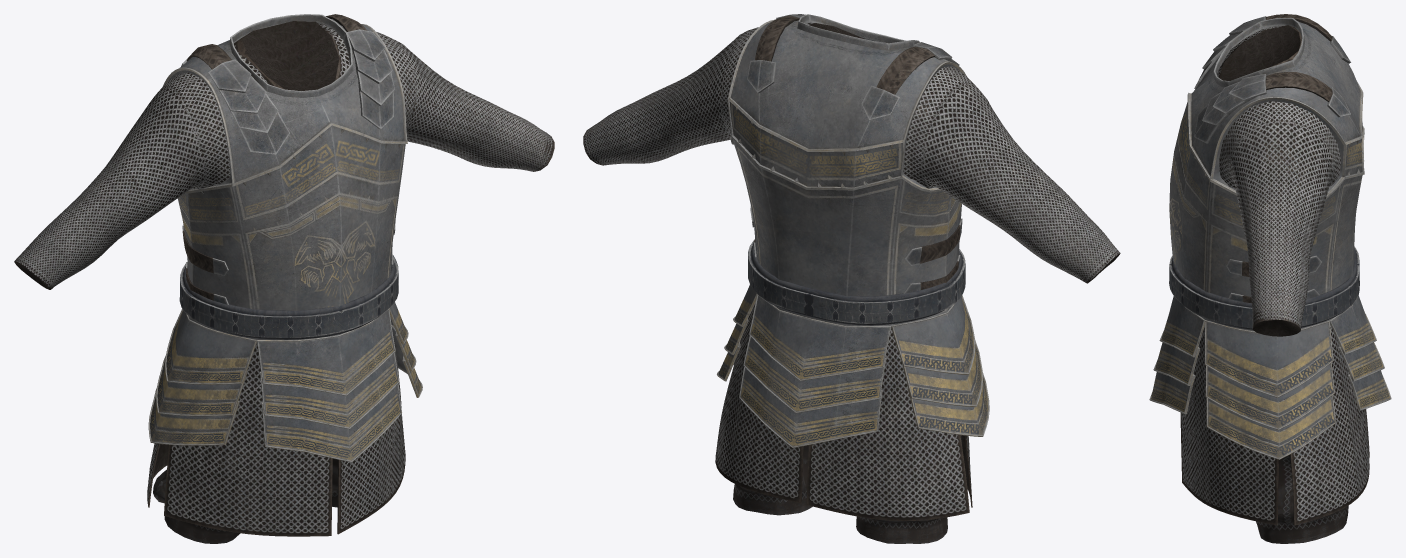
Rendered from sk_dwarf_erebor_chest_plate_elite_c2.fbx.
The picture shows the model from 3 angles, left to right: view 1: azimuth 30°, elevation 25°; view 2: azimuth 150°, elevation 25°; view 3: azimuth 270°, elevation 25°; orthographic projection. The views are drawn at different scales.
Parts seen in each view (by area): view 1: sk_dwarf_erebor_chest_plate_elite_c2.3, sk_dwarf_erebor_chest_plate_elite_c2.1, sk_dwarf_erebor_chest_plate_elite_c2.2, sk_dwarf_erebor_chest_plate_elite_c2.0; view 2: sk_dwarf_erebor_chest_plate_elite_c2.3, sk_dwarf_erebor_chest_plate_elite_c2.1, sk_dwarf_erebor_chest_plate_elite_c2.2, sk_dwarf_erebor_chest_plate_elite_c2.0; view 3: sk_dwarf_erebor_chest_plate_elite_c2.3, sk_dwarf_erebor_chest_plate_elite_c2.1, sk_dwarf_erebor_chest_plate_elite_c2.2, sk_dwarf_erebor_chest_plate_elite_c2.0.
Boxes of the visible parts, x1,y1,x2,y2 form: sk_dwarf_erebor_chest_plate_elite_c2.3: [148, 14, 422, 462]; sk_dwarf_erebor_chest_plate_elite_c2.1: [14, 21, 554, 536]; sk_dwarf_erebor_chest_plate_elite_c2.2: [181, 14, 395, 304]; sk_dwarf_erebor_chest_plate_elite_c2.0: [153, 458, 337, 543]; sk_dwarf_erebor_chest_plate_elite_c2.3: [717, 14, 989, 447]; sk_dwarf_erebor_chest_plate_elite_c2.1: [583, 23, 1120, 520]; sk_dwarf_erebor_chest_plate_elite_c2.2: [747, 14, 962, 293]; sk_dwarf_erebor_chest_plate_elite_c2.0: [733, 435, 962, 543]; sk_dwarf_erebor_chest_plate_elite_c2.3: [1149, 18, 1391, 459]; sk_dwarf_erebor_chest_plate_elite_c2.1: [1180, 25, 1369, 525]; sk_dwarf_erebor_chest_plate_elite_c2.2: [1194, 14, 1350, 302]; sk_dwarf_erebor_chest_plate_elite_c2.0: [1256, 454, 1348, 543].
Bounding box in the file's own units: 1.16 × 0.4861 × 1.03.
Materials: 4 (4 with a texture image).
